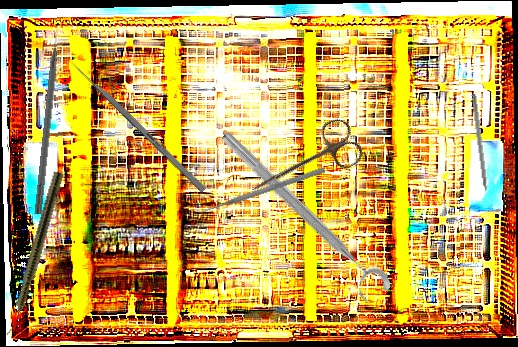Fixation Ring: (207, 126, 396, 309)
Handpiece: (4, 170, 65, 339)
Hook Surgical: (34, 22, 64, 215), (470, 94, 490, 204)
Iris Scissors: (241, 114, 367, 214)
Pusher: (65, 55, 207, 194), (198, 165, 326, 217)
